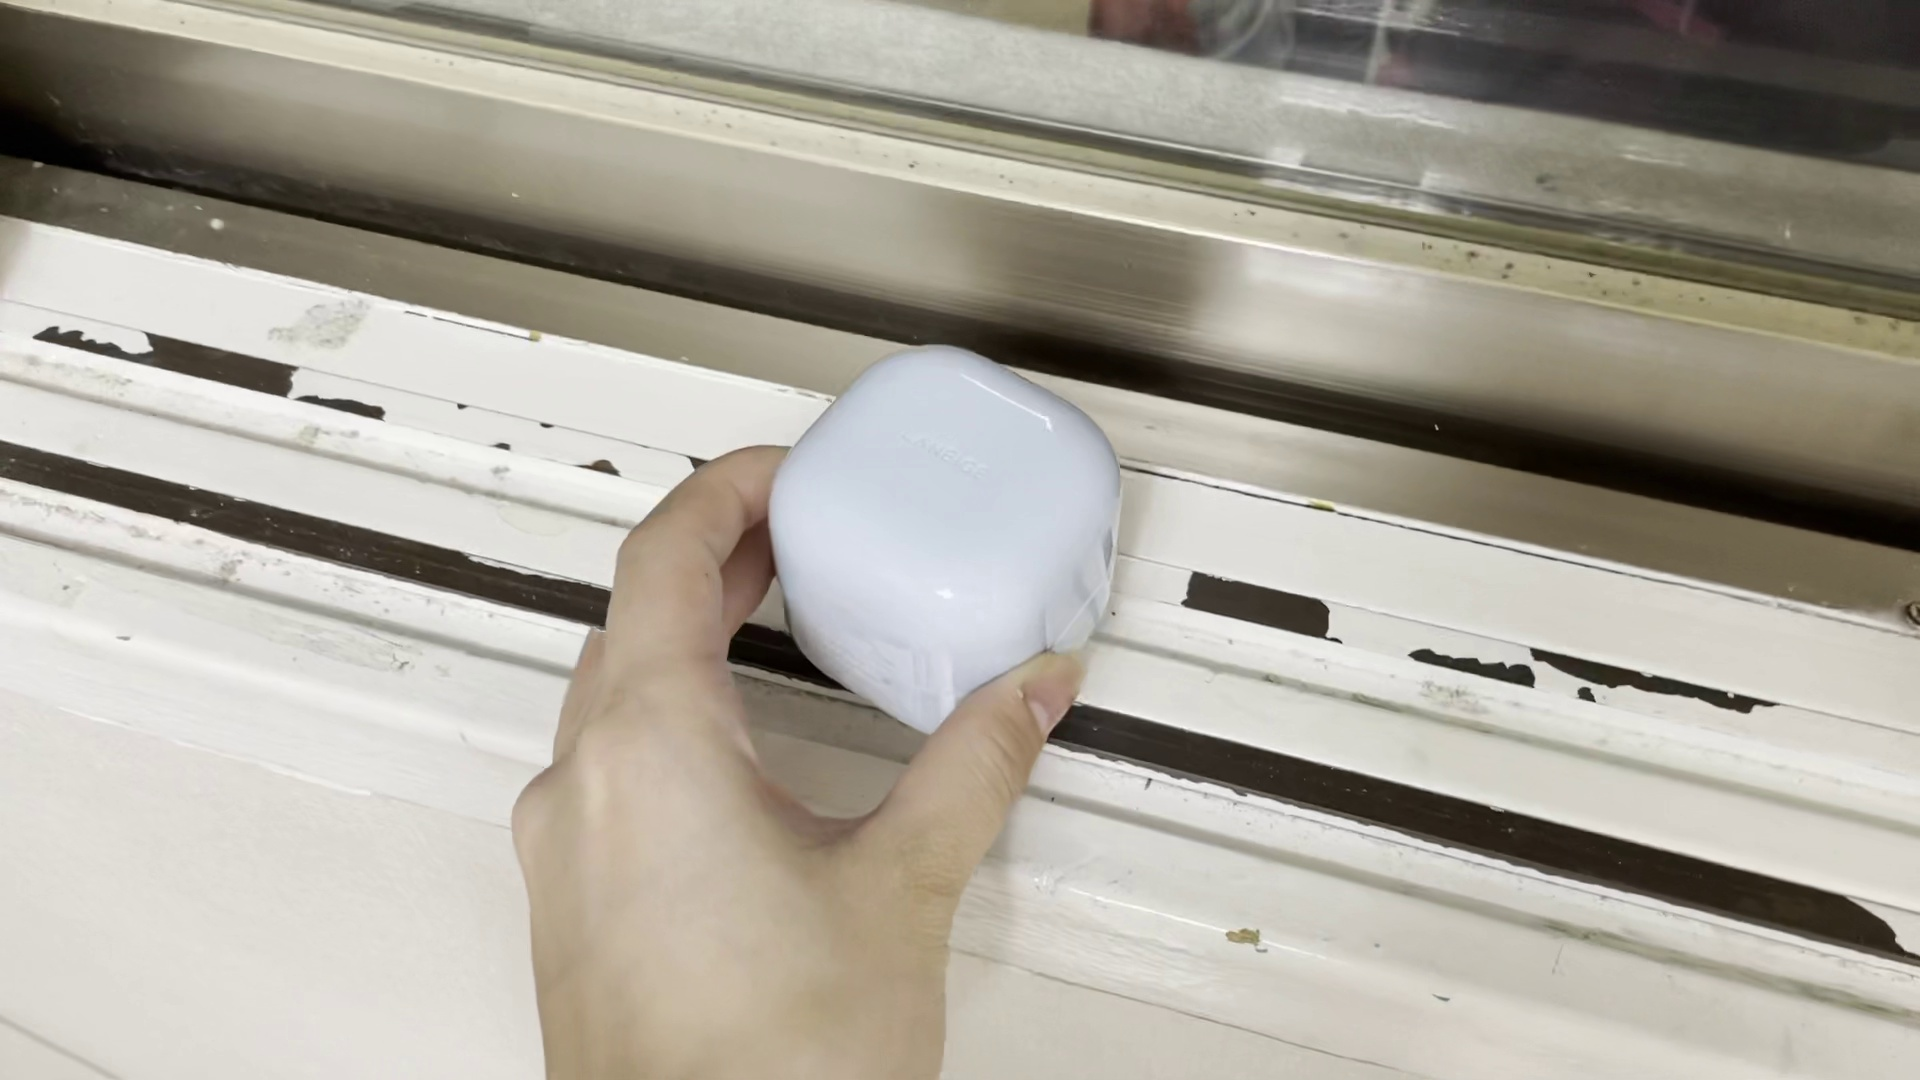cream: (765, 345, 1118, 733)
